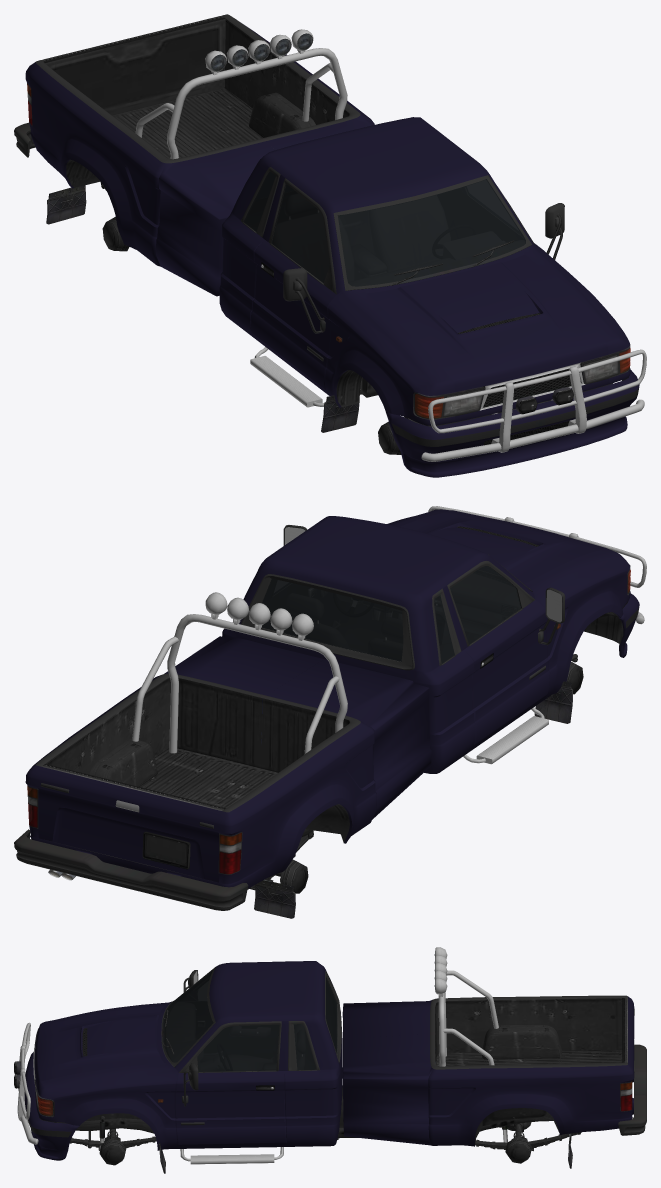
File: f250-crew.gltf
The picture shows the model from 3 angles, top to bottom: view 1: azimuth 30°, elevation 25°; view 2: azimuth 150°, elevation 25°; view 3: azimuth 270°, elevation 25°; orthographic projection. The views are drawn at different scales.
Parts seen in each view (by area): view 1: body, chassis, glass, interior, lights; view 2: body, chassis, glass, interior, lights; view 3: body, chassis, glass, interior, lights.
Boxes of the visible parts, x1,y1,x2,y2 form: body: (25,23,639,477); chassis: (14,14,646,461); glass: (27,84,630,418); interior: (245,188,524,285); lights: (28,90,628,417); body: (25,509,639,888); chassis: (14,506,646,918); glass: (27,566,630,874); interior: (262,571,519,662); lights: (28,588,628,873); body: (24,961,634,1160); chassis: (14,947,646,1173); glass: (35,970,632,1115); interior: (165,974,335,1071); lights: (36,1082,631,1115).
Size of the model in its own units: 2.38 by 1.87 by 6.31.
Materials: 5 (4 with a texture image).
